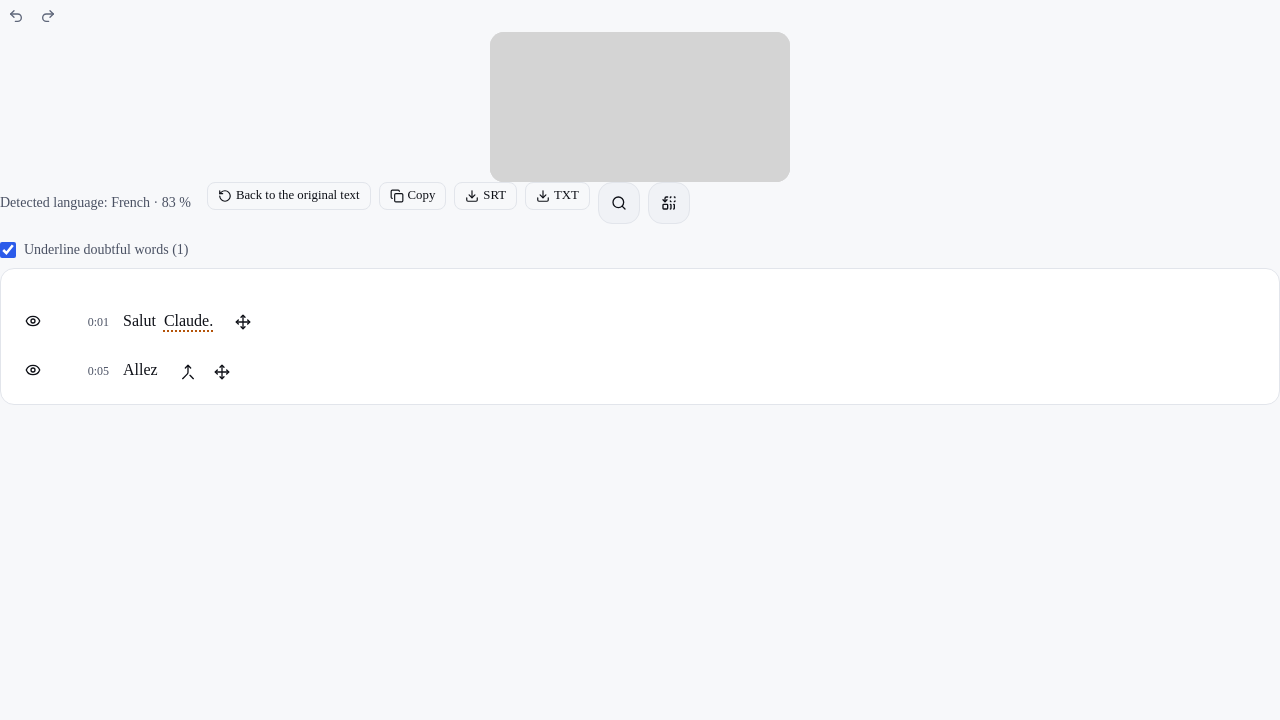
Test case: TranscriptView › shows an error and keeps the corrections when going back fails
What coordinates should you click on to do the following:
click the button "Back to the original text"
I would click on:
 (289, 196)
Its box is [207,182,371,210].
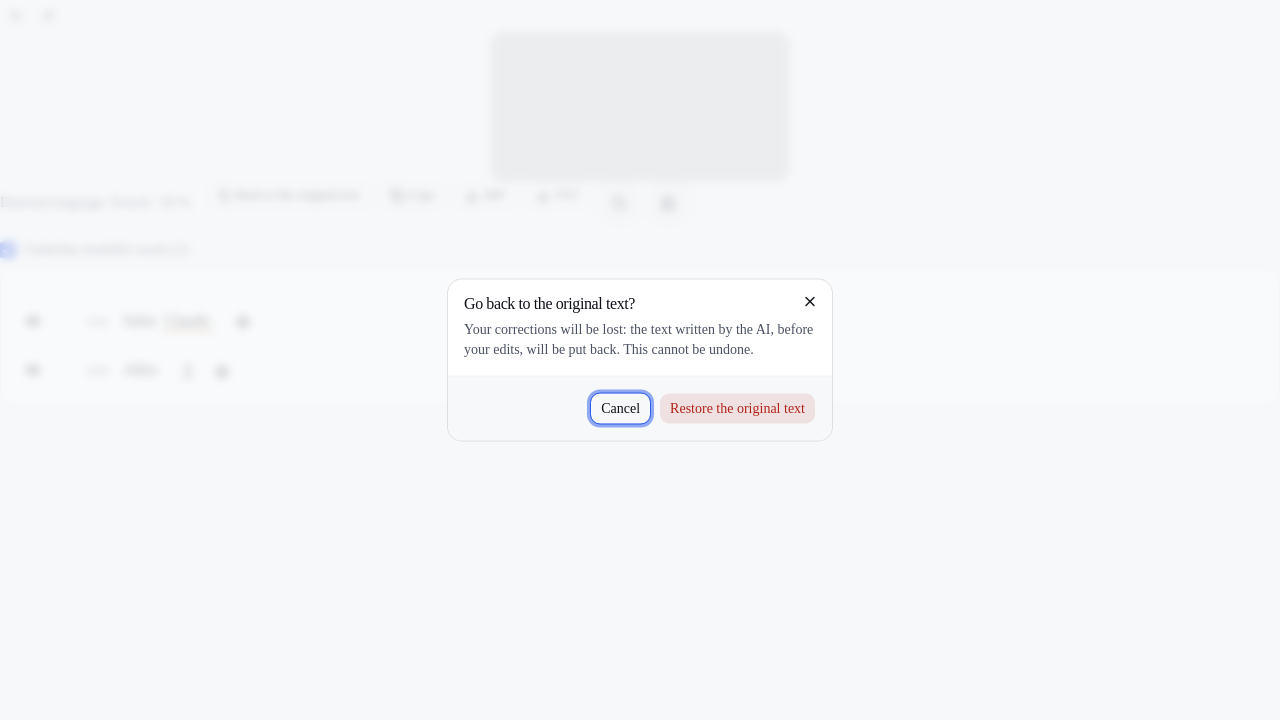
What coordinates should you click on to do the following:
click the button "Restore the original text"
I would click on:
 (738, 408)
Its box is [659,392,816,424].
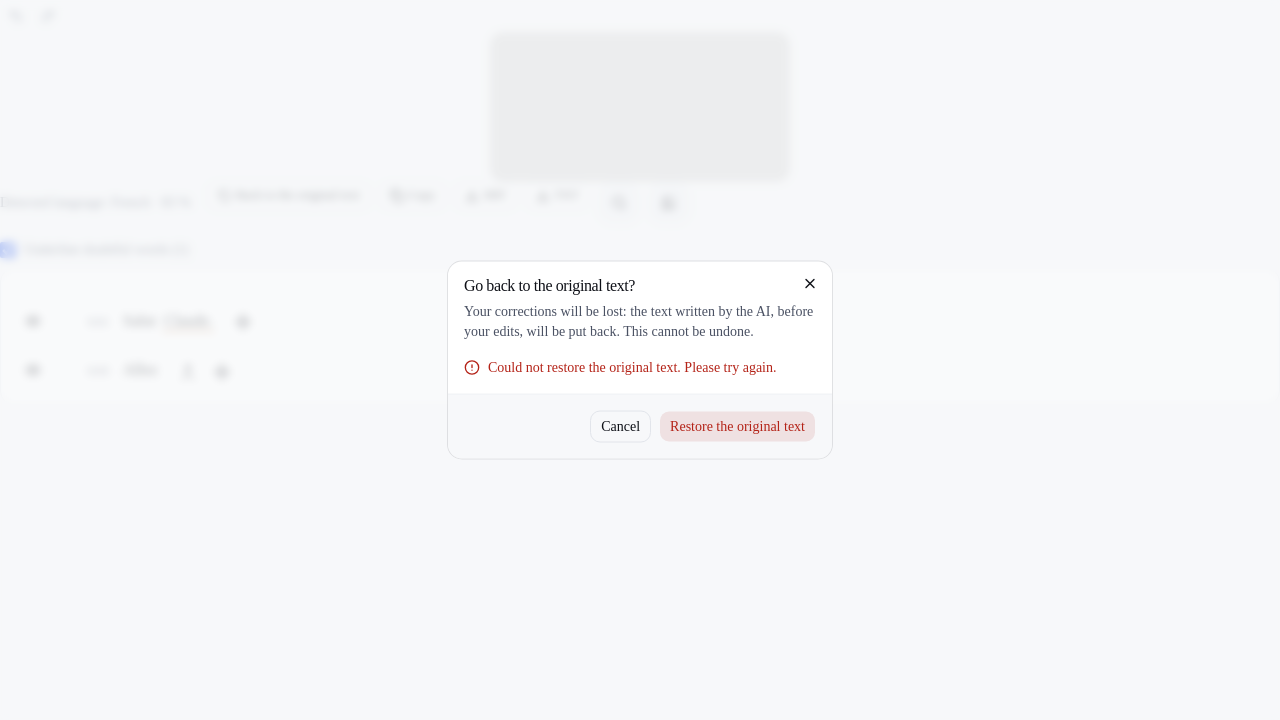
Expected: the text "Could not restore the original text. Please try again." is shown, [464,358,816,378]
